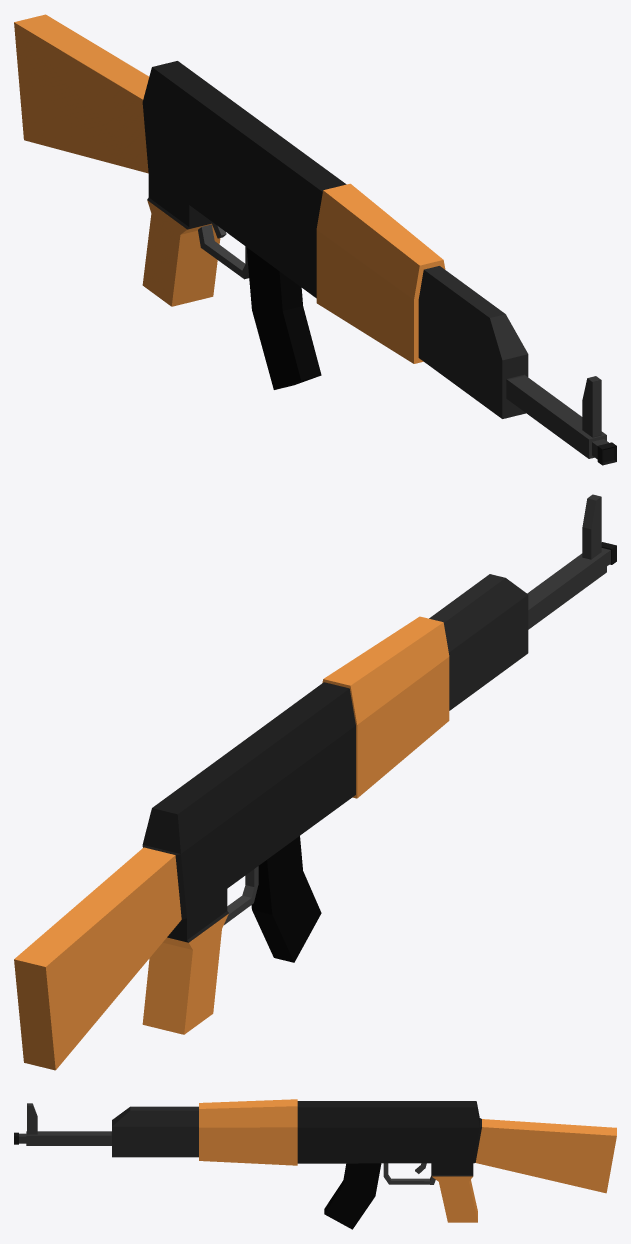
Rendered from assault_rifle_01.fbx.
The picture shows the model from 3 angles, top to bottom: view 1: azimuth 30°, elevation 25°; view 2: azimuth 150°, elevation 25°; view 3: azimuth 270°, elevation 25°; orthographic projection. The views are drawn at different scales.
Parts seen in each view (by area): view 1: assault_rifle; view 2: assault_rifle; view 3: assault_rifle.
Boxes of the visible parts, x1,y1,x2,y2 form: assault_rifle: (14,14,616,465); assault_rifle: (14,494,616,1070); assault_rifle: (14,1099,616,1229).
Size of the model in its own units: 0.0507 by 0.2792 by 1.23.
